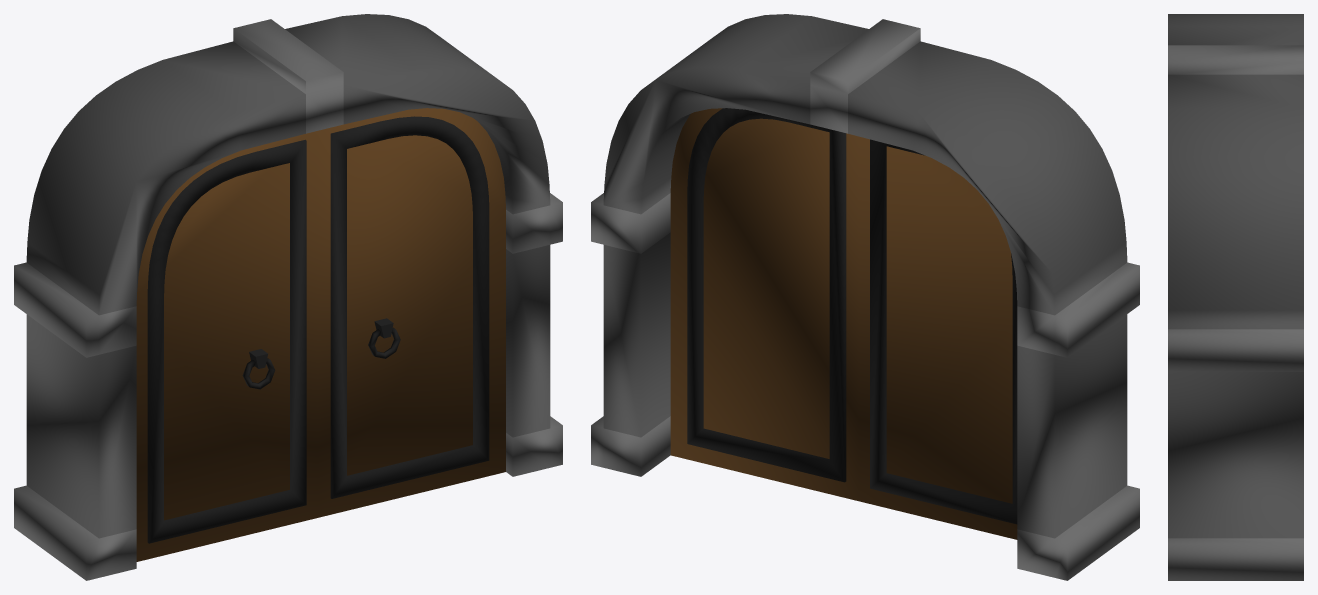
The model's file is Doar_typeA.fbx.
3 renders of one model, left to right at view 1: azimuth 30°, elevation 25°; view 2: azimuth 150°, elevation 25°; view 3: azimuth 270°, elevation 25°, orthographic. The views are drawn at different scales.
Parts seen in each view (by area): view 1: Cube.003, Cube.004; view 2: Cube.003, Cube.004; view 3: Cube.004.
Part boxes in pixels (bbox=[...]): Cube.003: bbox=[136, 108, 505, 561]; Cube.004: bbox=[14, 14, 562, 580]; Cube.003: bbox=[670, 108, 1017, 539]; Cube.004: bbox=[591, 14, 1139, 580]; Cube.004: bbox=[1168, 14, 1303, 580].
Size of the model in its own units: 342 by 306 by 90.
